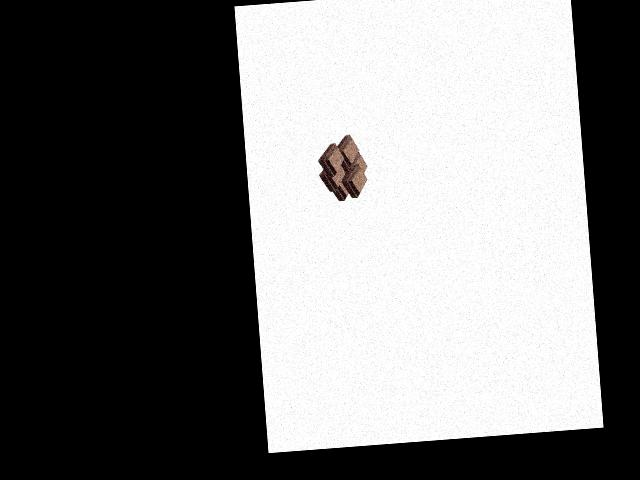chocolate: (318, 134, 372, 204)
